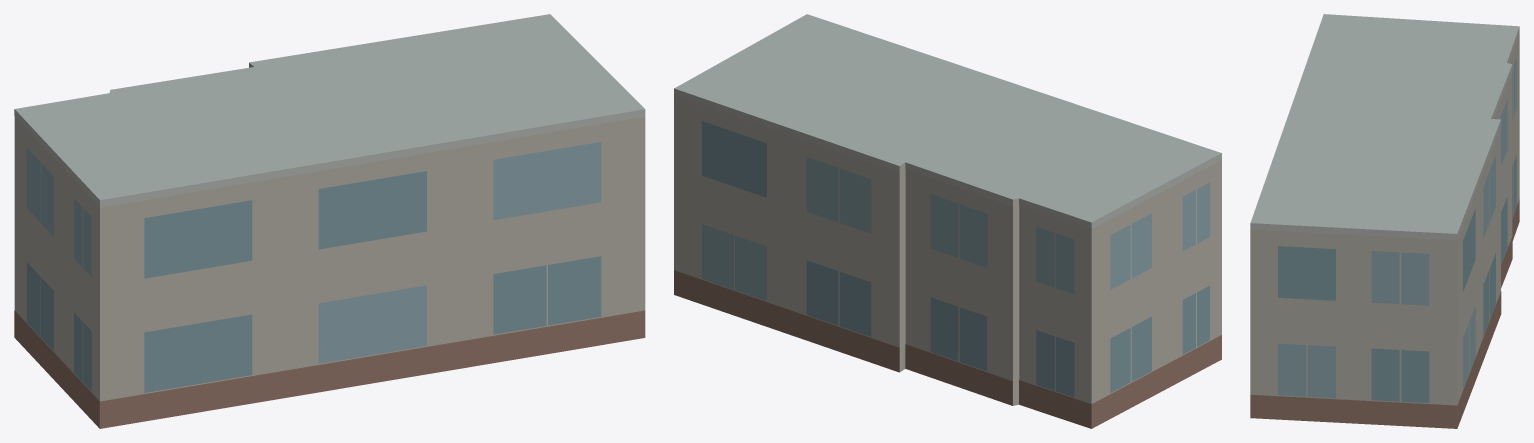
The model's file is survey-upis-32632306.glb.
3 views of the same model, side by side, from view 1: azimuth 30°, elevation 25°; view 2: azimuth 150°, elevation 25°; view 3: azimuth 270°, elevation 25° (orthographic). The views are drawn at different scales.
Parts seen in each view (by area): view 1: survey-upis-32632306.tmp; view 2: survey-upis-32632306.tmp; view 3: survey-upis-32632306.tmp.
Boxes of the visible parts, x1,y1,x2,y2 form: survey-upis-32632306.tmp: [14, 14, 645, 428]; survey-upis-32632306.tmp: [674, 14, 1221, 428]; survey-upis-32632306.tmp: [1250, 14, 1519, 428].
Size of the model in its own units: 18.15 by 7.5 by 9.4.
